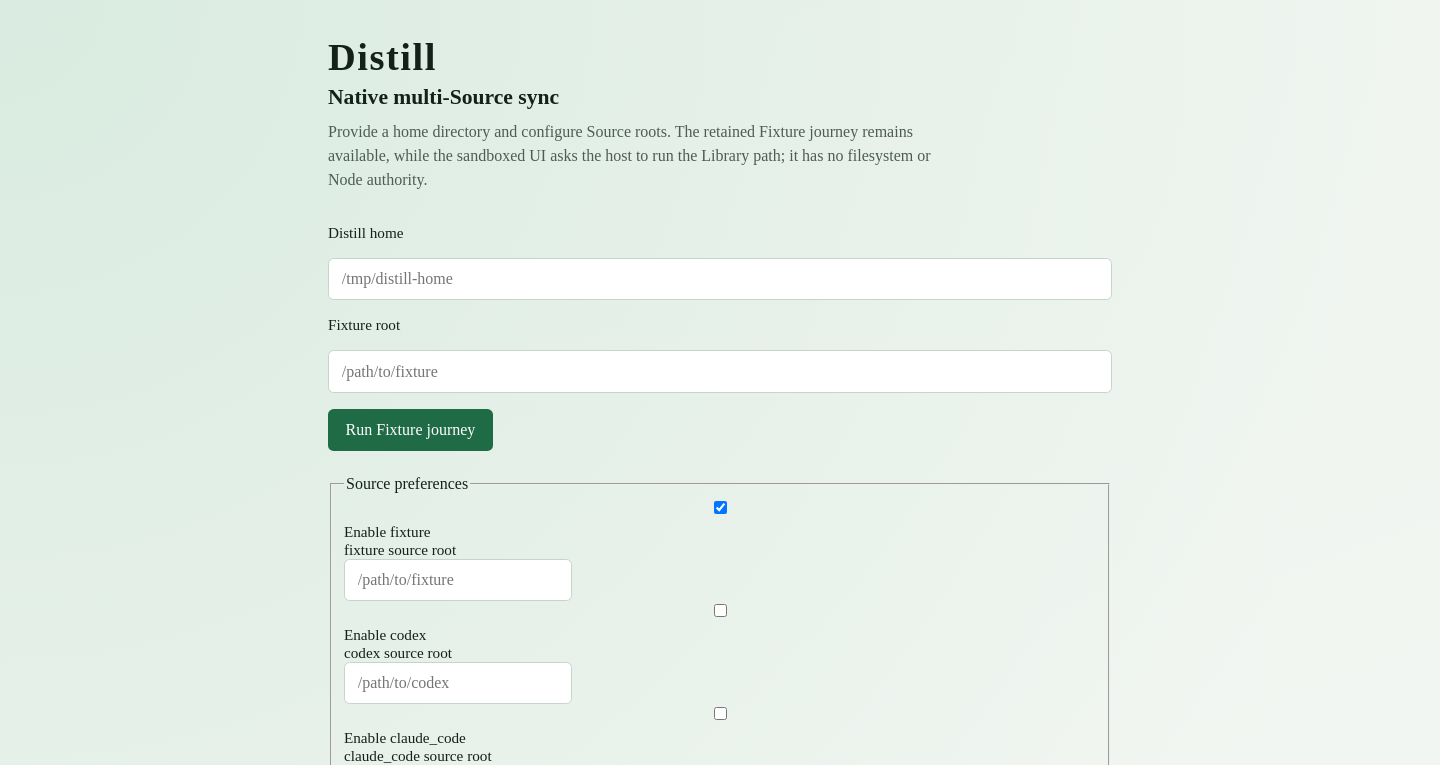
Test case: App multi-source Sync preferences › hydrates an existing enabled provider root before persisting untouched drafts
The width and height of the screenshot is (1440, 765).
Type "/tmp/home" into the field labelled "Distill home" at (720, 279), box top-left (328, 258), bottom-right (1112, 300)
(page scrolled)
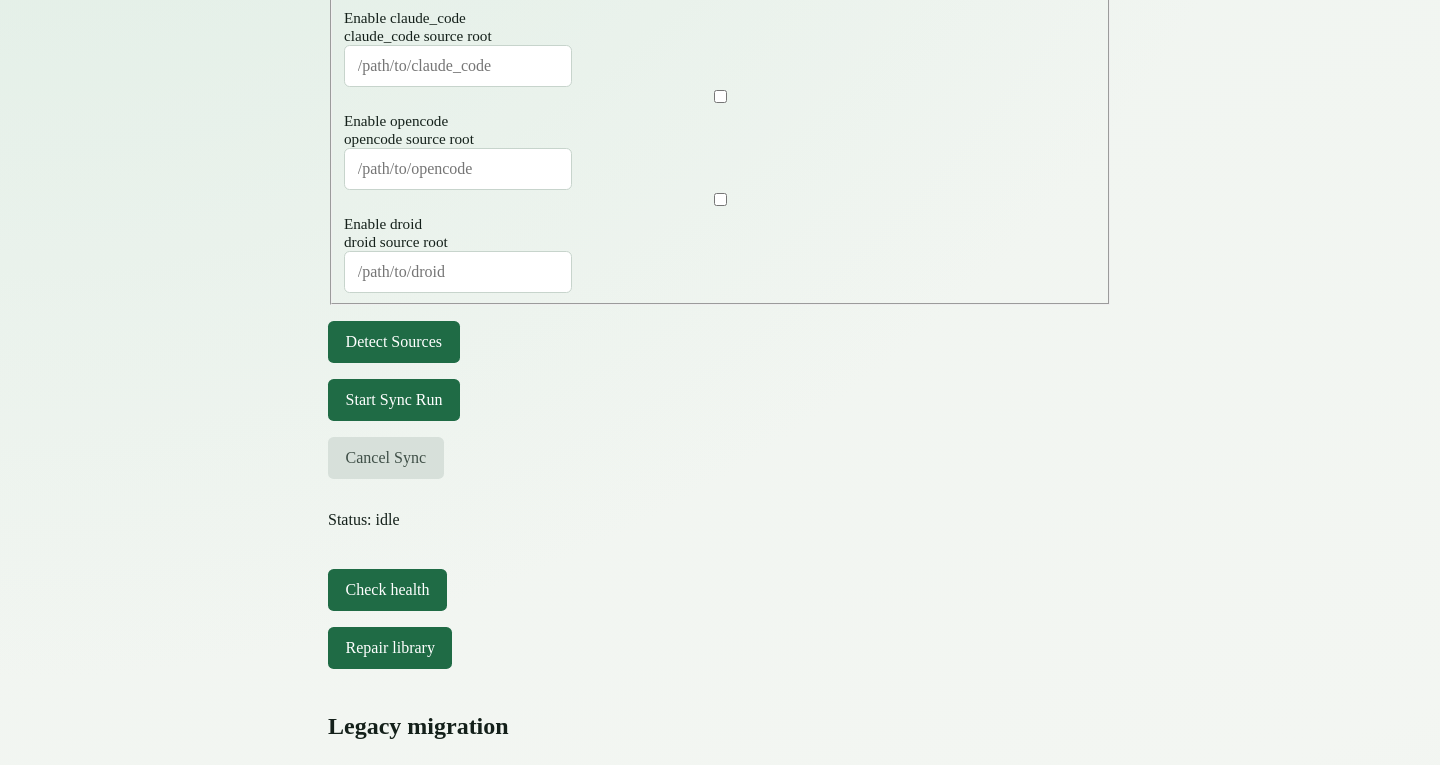
Click the button "Start Sync Run" at (394, 400), box top-left (328, 379), bottom-right (460, 421)
(page scrolled)
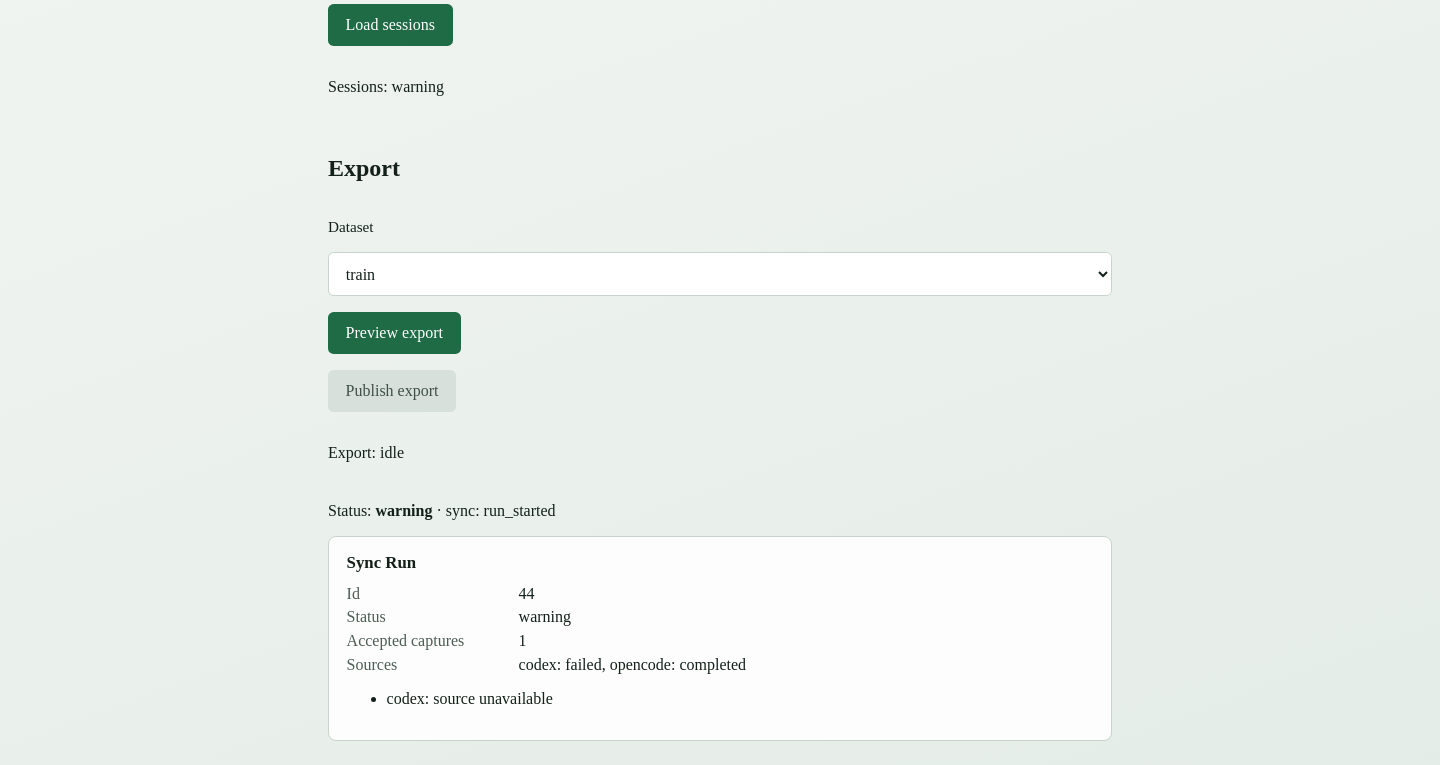
Check: the text with test id "status" next to "· sync: run_started" reads "warning", box top-left (376, 502), bottom-right (432, 519)
